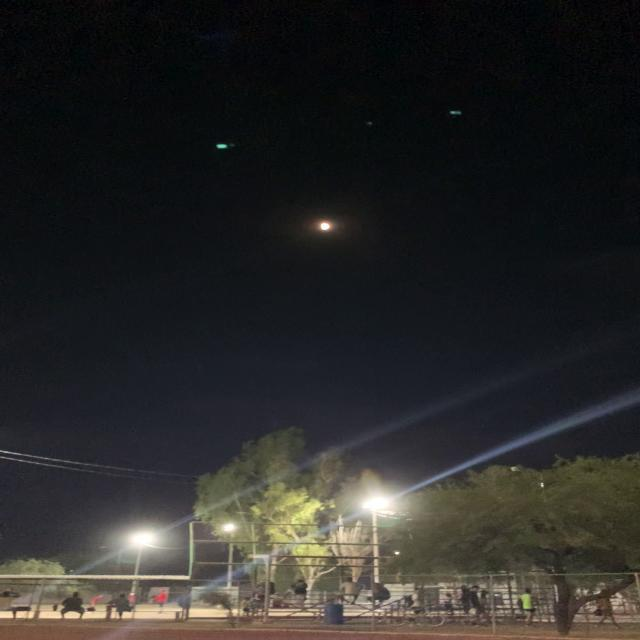moon: (308, 208, 344, 240)
